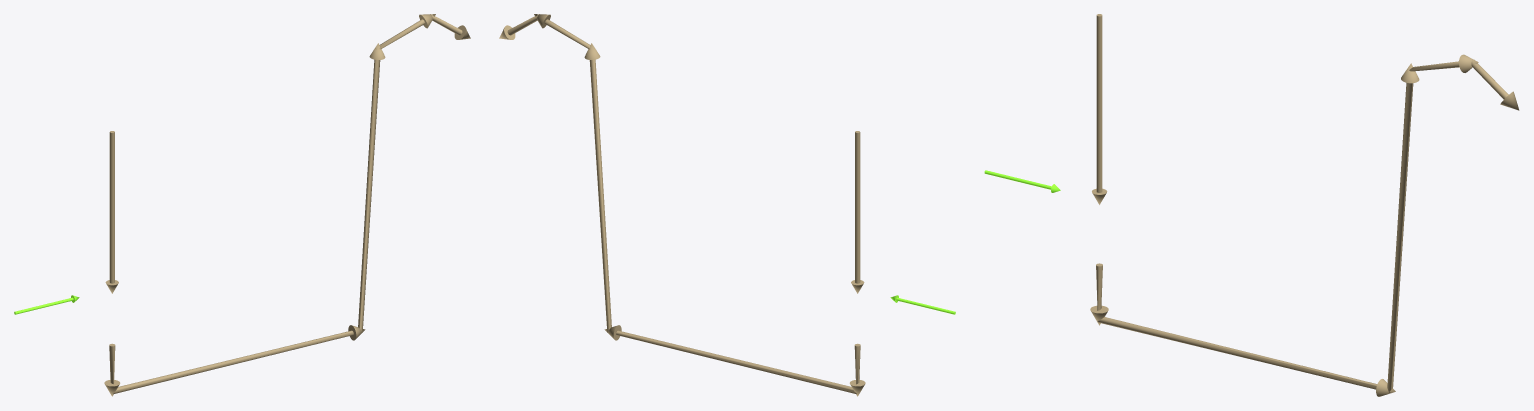
The model's file is alumina_pneumatic_conveying_system_flow.glb.
3 views of the same model, side by side, from view 1: azimuth 30°, elevation 25°; view 2: azimuth 150°, elevation 25°; view 3: azimuth 330°, elevation 25° (orthographic). The views are drawn at different scales.
Parts seen in each view (by area): view 1: conveying, filling; view 2: conveying, filling; view 3: conveying, filling.
Part boxes in pixels (bbox=[...]): conveying: bbox=[104, 14, 470, 396]; filling: bbox=[105, 131, 118, 293]; conveying: bbox=[499, 14, 865, 396]; filling: bbox=[851, 131, 864, 293]; conveying: bbox=[1090, 54, 1519, 396]; filling: bbox=[1092, 14, 1107, 204].
Size of the model in its own units: 5.15 by 3.32 by 0.156.
